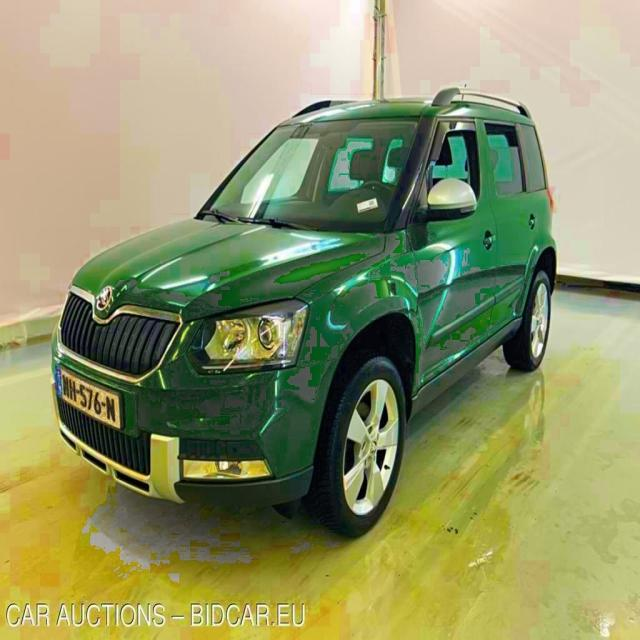green: (36, 82, 564, 549)
